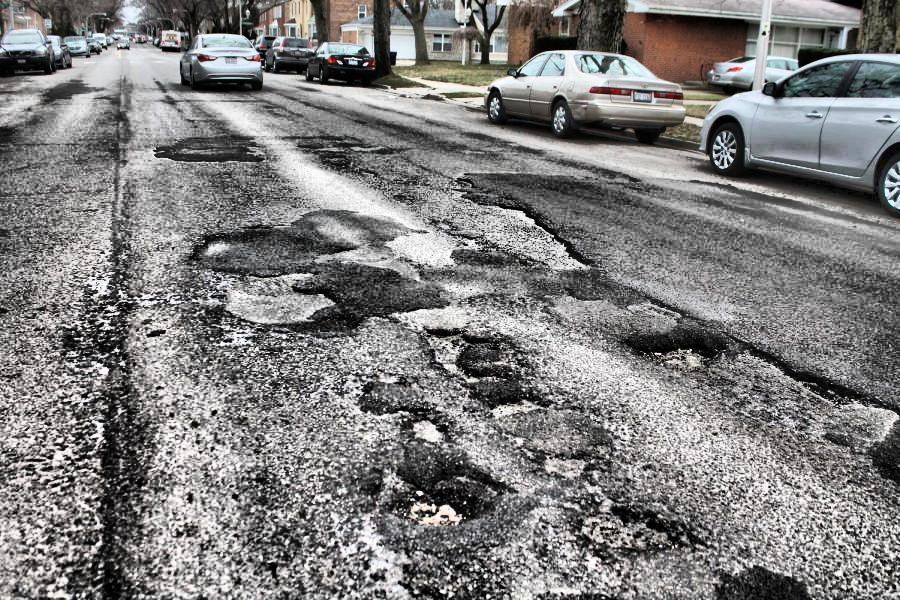pothole: (378, 462, 496, 527), (419, 315, 499, 391), (569, 502, 683, 554), (215, 283, 329, 331), (633, 338, 720, 370), (535, 447, 598, 486), (404, 413, 452, 450), (481, 398, 545, 417)
